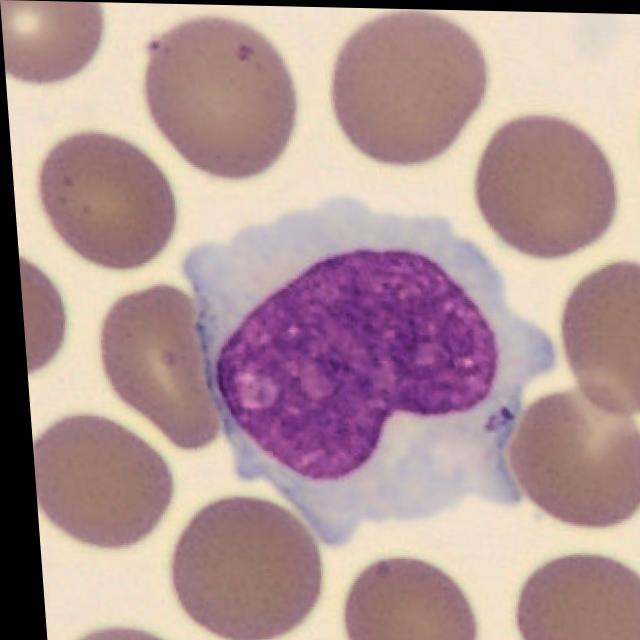Linfocito atipico: (179, 198, 548, 543)
